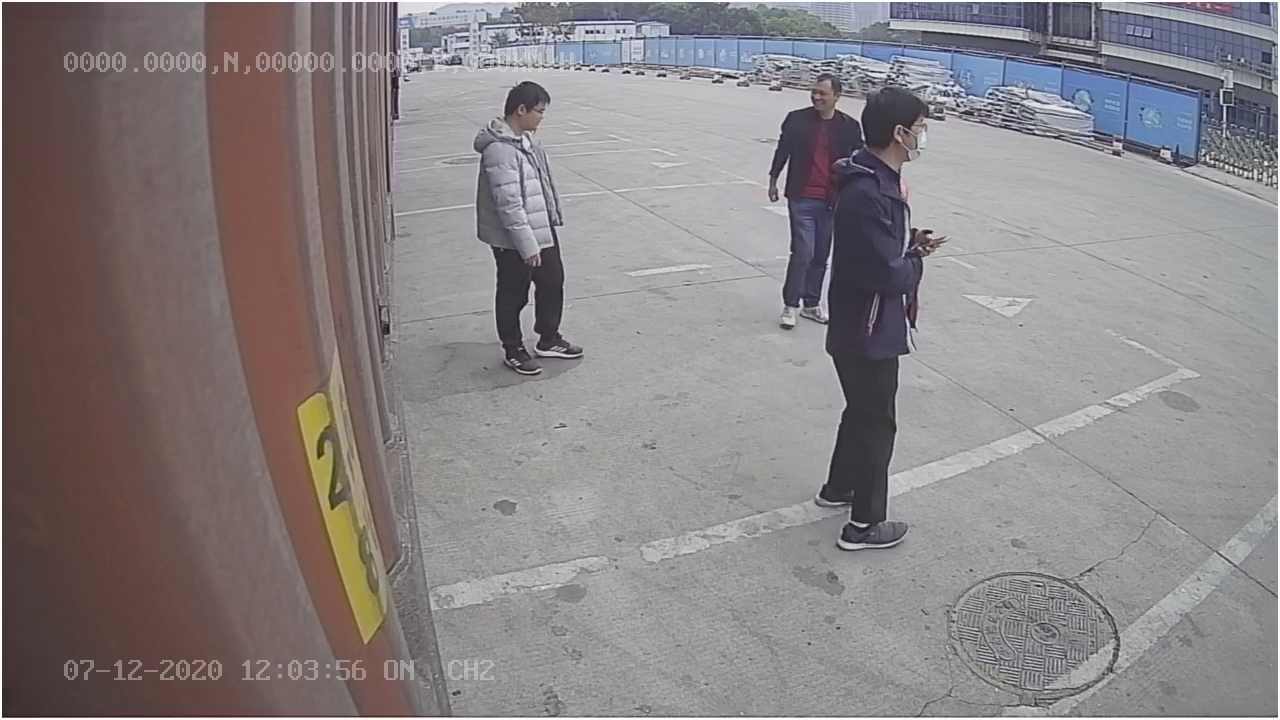person: (467, 69, 587, 380)
